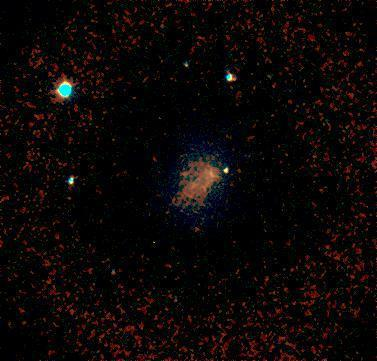star: (101, 253, 131, 283)
